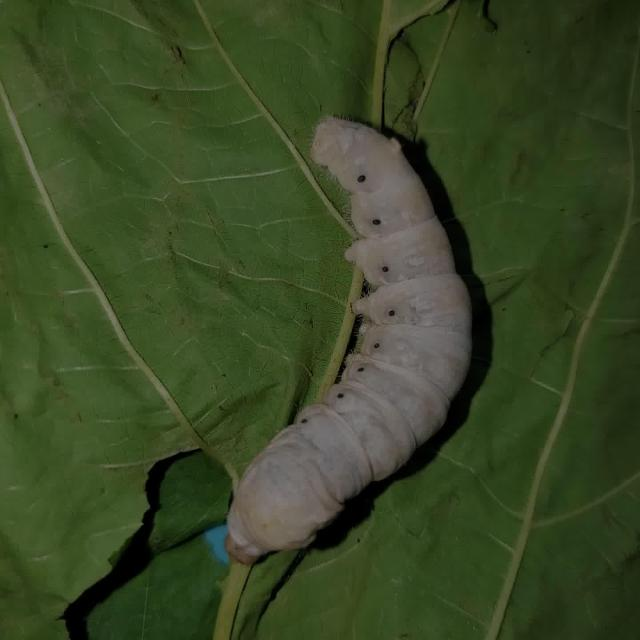Grasserie: (204, 104, 516, 590)
